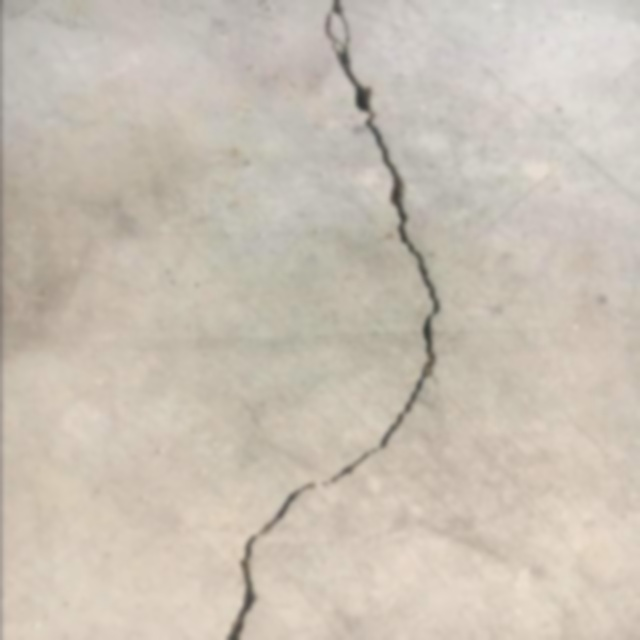SurfaceCrack: (174, 1, 462, 640)
